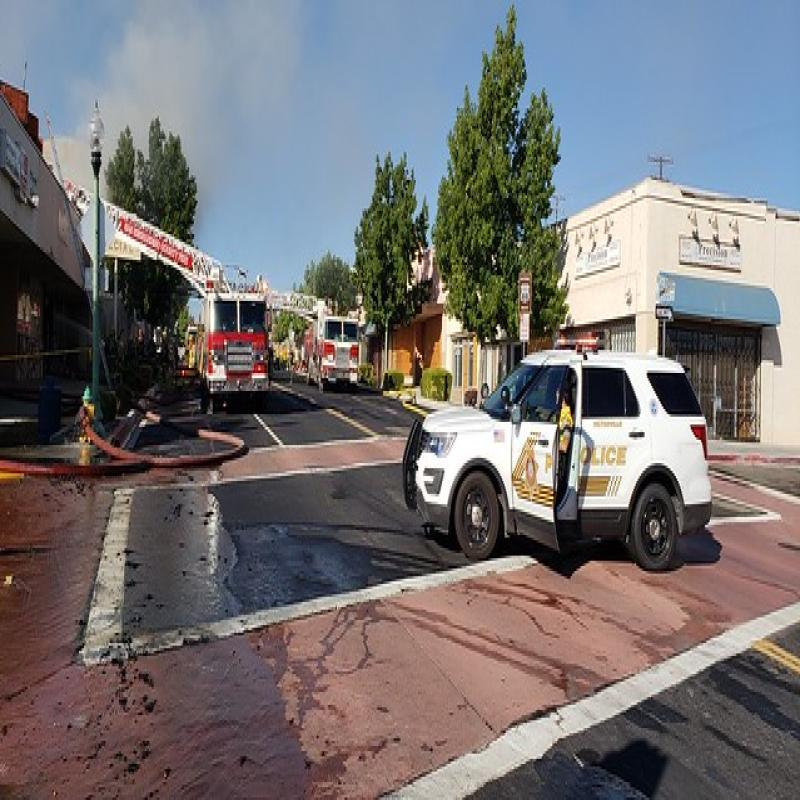AmbulanceSiren: (556, 307, 600, 359)
